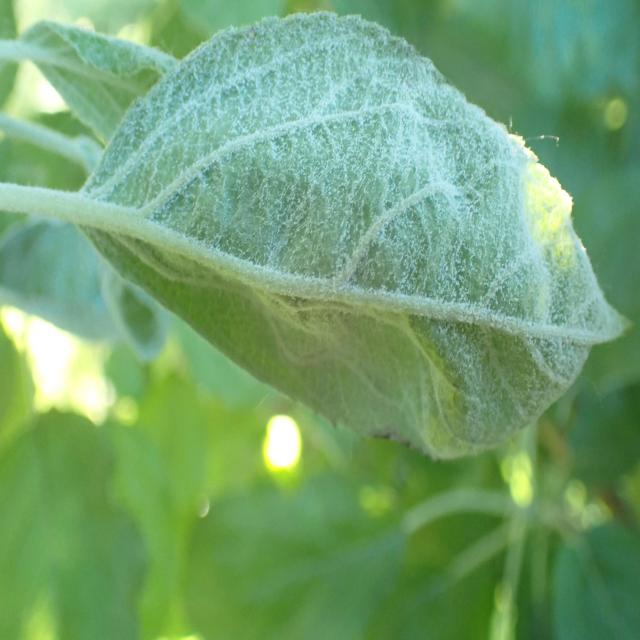Powdery_mildew: (60, 0, 632, 474), (0, 0, 185, 140)
